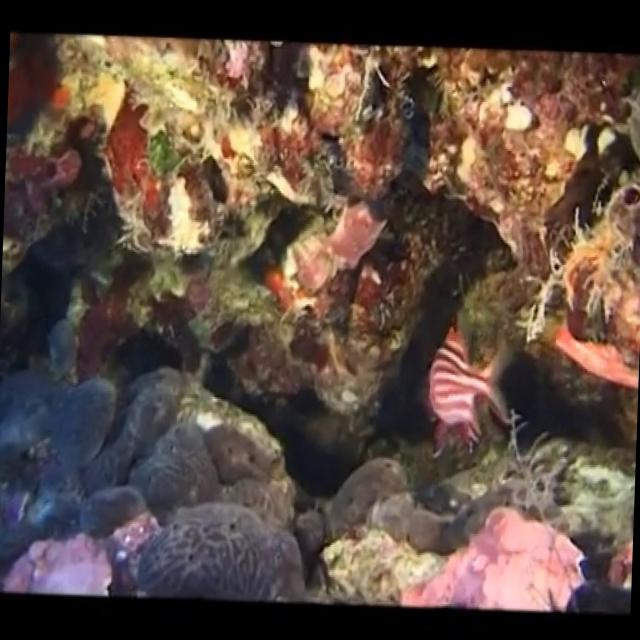Asker Baligi: (422, 315, 520, 462)
